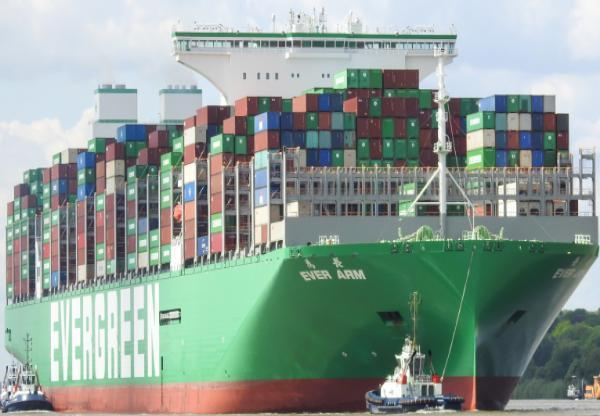Container Ship: (1, 5, 599, 414)
